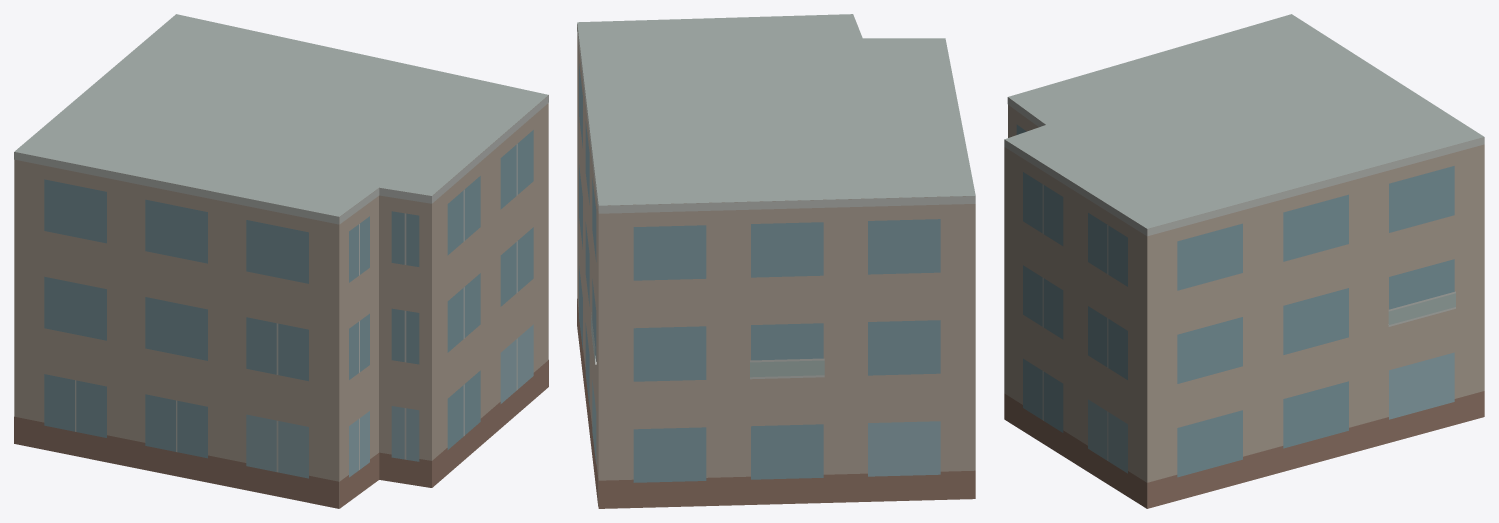
Rendered from survey-upis-32586002.glb.
3 views of the same model, side by side, from view 1: azimuth 30°, elevation 25°; view 2: azimuth 150°, elevation 25°; view 3: azimuth 270°, elevation 25° (orthographic). The views are drawn at different scales.
Visible parts, largest first — view 1: survey-upis-32586002.tmp; view 2: survey-upis-32586002.tmp; view 3: survey-upis-32586002.tmp.
Part boxes in pixels (bbox=[...]): survey-upis-32586002.tmp: bbox=[14, 14, 548, 508]; survey-upis-32586002.tmp: bbox=[577, 14, 975, 508]; survey-upis-32586002.tmp: bbox=[1004, 14, 1484, 508].
Bounding box in the file's own units: 15.07 × 9.15 × 14.23.
